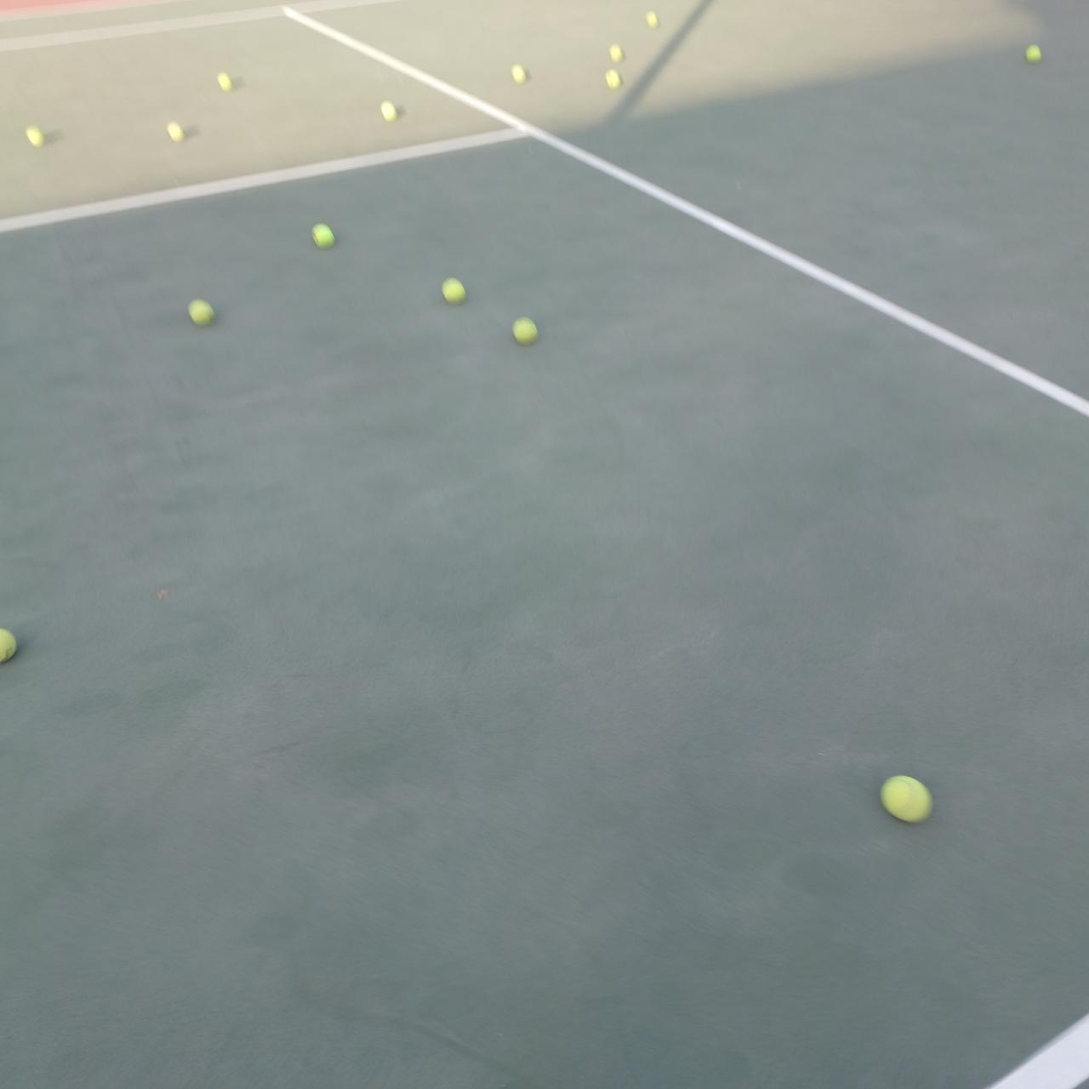tennis-ball: (879, 772, 932, 824), (510, 315, 539, 345), (186, 296, 214, 326), (440, 275, 465, 303), (0, 624, 17, 664), (310, 220, 334, 248), (379, 98, 396, 121), (27, 127, 44, 147), (215, 70, 231, 91), (1025, 45, 1042, 64), (168, 123, 183, 141), (606, 70, 620, 89), (646, 11, 660, 29), (610, 45, 623, 63), (512, 66, 525, 83)
